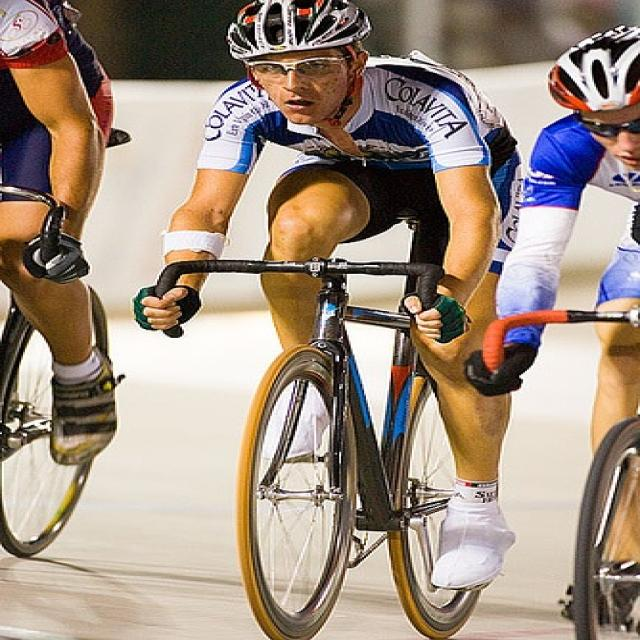bicycle: (133, 258, 488, 640), (480, 310, 639, 640), (1, 184, 127, 558)
person: (141, 1, 520, 591), (482, 24, 639, 623), (1, 1, 125, 464)
